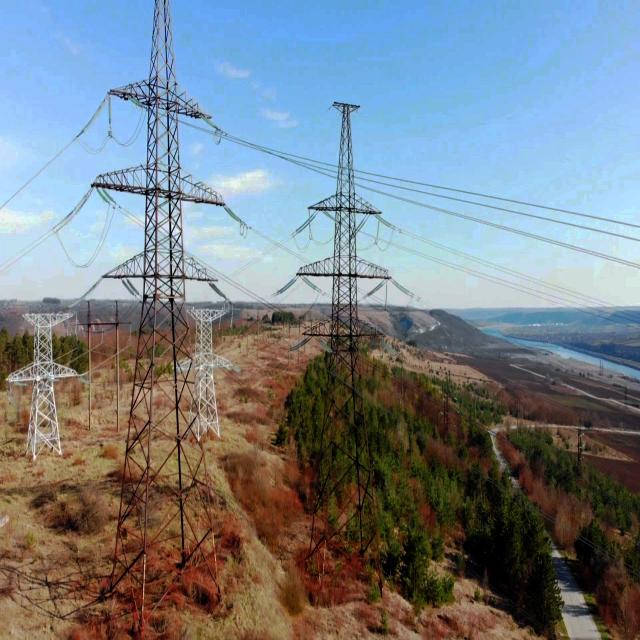poles: (93, 0, 229, 625), (297, 100, 392, 603), (7, 311, 81, 461), (74, 298, 133, 437)
wires: (359, 354, 640, 518), (374, 215, 640, 323), (353, 170, 640, 270), (0, 90, 108, 212), (180, 118, 338, 181), (191, 253, 309, 329), (3, 186, 92, 271), (223, 206, 311, 264), (56, 205, 116, 267), (97, 188, 144, 230), (113, 99, 148, 148), (64, 275, 101, 313), (76, 137, 110, 153)
